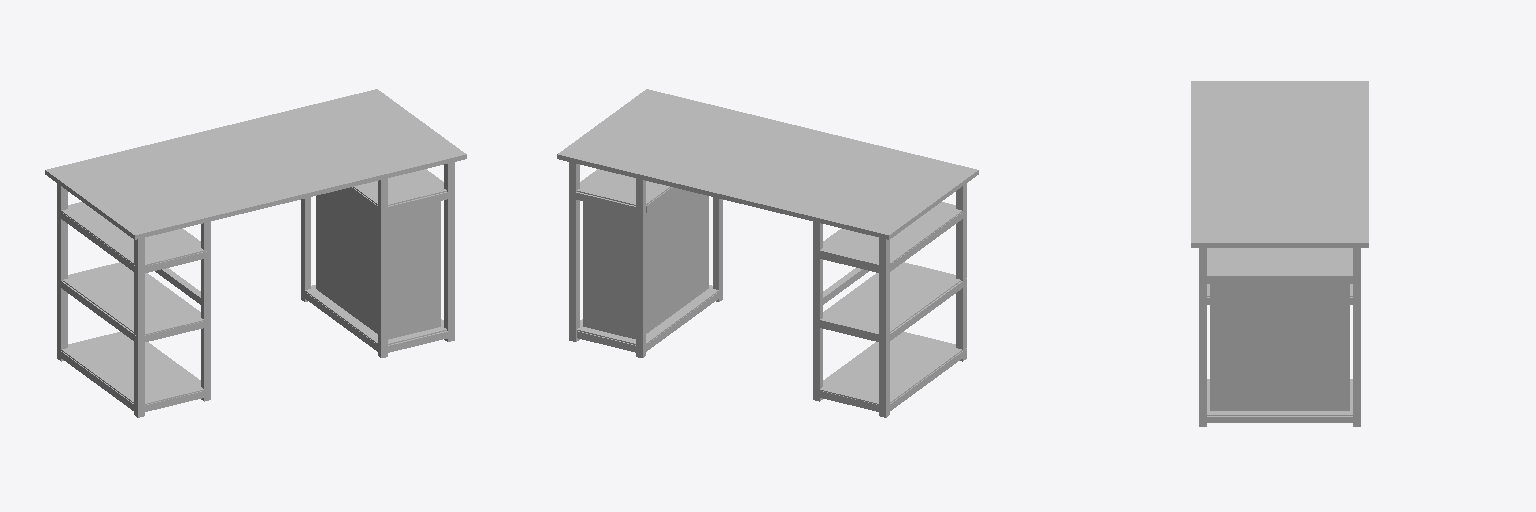
The model's file is table.obj.
3 views of the same model, side by side, from view 1: azimuth 30°, elevation 25°; view 2: azimuth 150°, elevation 25°; view 3: azimuth 270°, elevation 25° (orthographic).
Parts seen in each view (by area): view 1: Box13, Box14, Box10, Box12, Box11, Box4, Box9, Box6, Box7, Box15, Box, Box8 (+6 smaller); view 2: Box13, Box14, Box10, Box12, Box11, Box7, Box5, Box3, Box9, Box2, Box6, Box8 (+6 smaller); view 3: Box13, Box14, Box9, Box4, Box5, Box1, Box16, Box8.
Boxes of the visible parts, x1,y1,x2,y2 form: Box13: [45, 89, 466, 239]; Box14: [316, 189, 440, 339]; Box10: [61, 332, 203, 404]; Box12: [63, 262, 203, 334]; Box11: [61, 202, 203, 265]; Box4: [444, 162, 454, 341]; Box9: [353, 169, 446, 205]; Box6: [134, 238, 144, 417]; Box7: [57, 184, 67, 361]; Box15: [378, 178, 387, 357]; Box: [201, 222, 210, 401]; Box8: [305, 285, 446, 344]; Box13: [557, 89, 978, 239]; Box14: [583, 189, 708, 338]; Box10: [820, 332, 962, 404]; Box12: [820, 262, 960, 334]; Box11: [820, 202, 962, 265]; Box7: [879, 238, 889, 417]; Box5: [569, 162, 579, 341]; Box3: [636, 178, 645, 357]; Box9: [577, 169, 670, 205]; Box2: [813, 222, 822, 401]; Box6: [956, 184, 966, 361]; Box8: [577, 285, 718, 344]; Box13: [1191, 81, 1368, 247]; Box14: [1210, 284, 1349, 410]; Box9: [1207, 248, 1352, 276]; Box4: [1199, 248, 1206, 426]; Box5: [1353, 248, 1360, 426]; Box1: [1207, 277, 1352, 283]; Box16: [1207, 416, 1352, 422]; Box8: [1207, 379, 1352, 415].
Bounding box in the file's own units: 1.5 × 0.81 × 0.7.